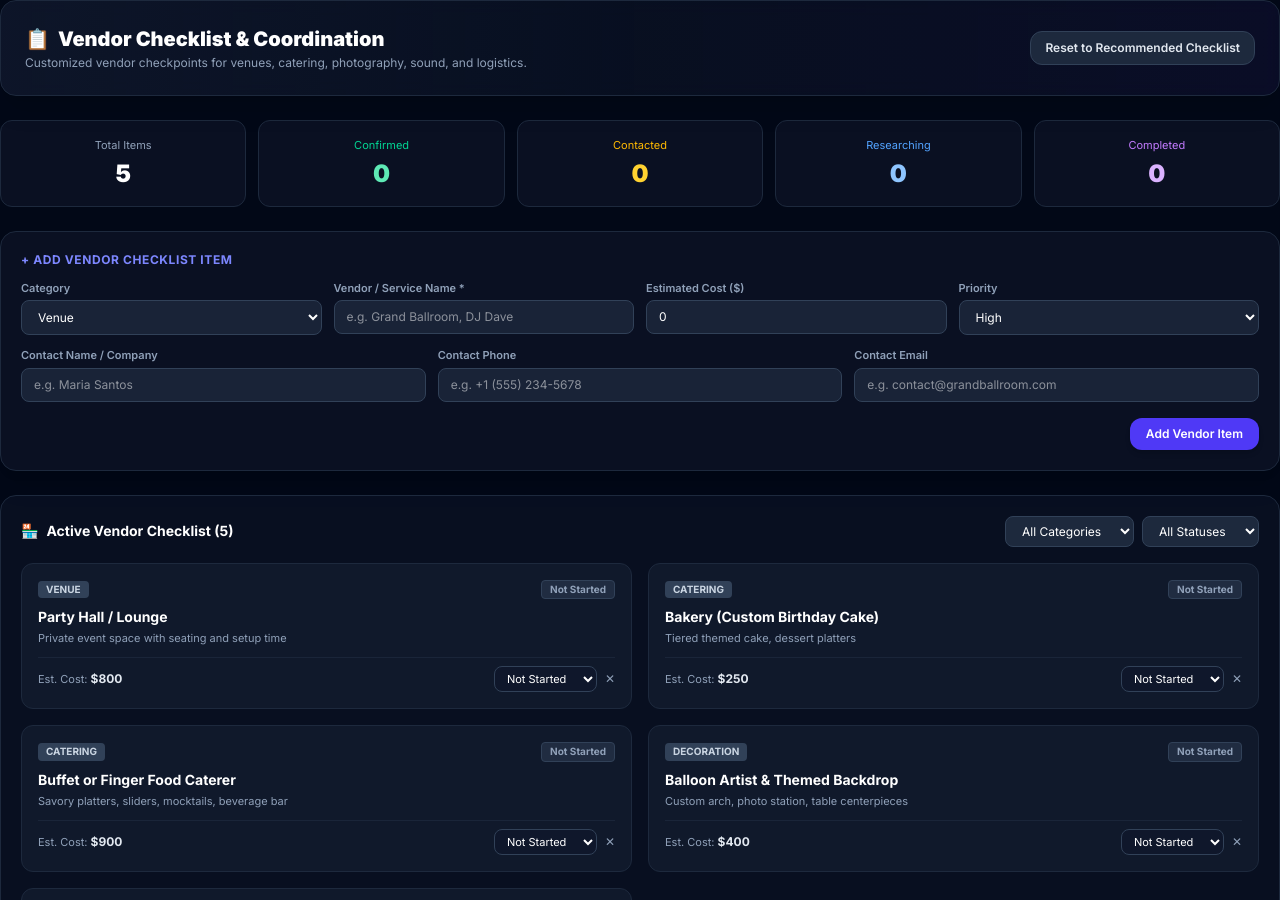
Test: VendorChecklist — DOM Interactions › adds a new vendor checklist item
Type "Retro Synthwave DJ" into the field labelled "Vendor / Service Name *" at (484, 317), box [334,300,634,334]
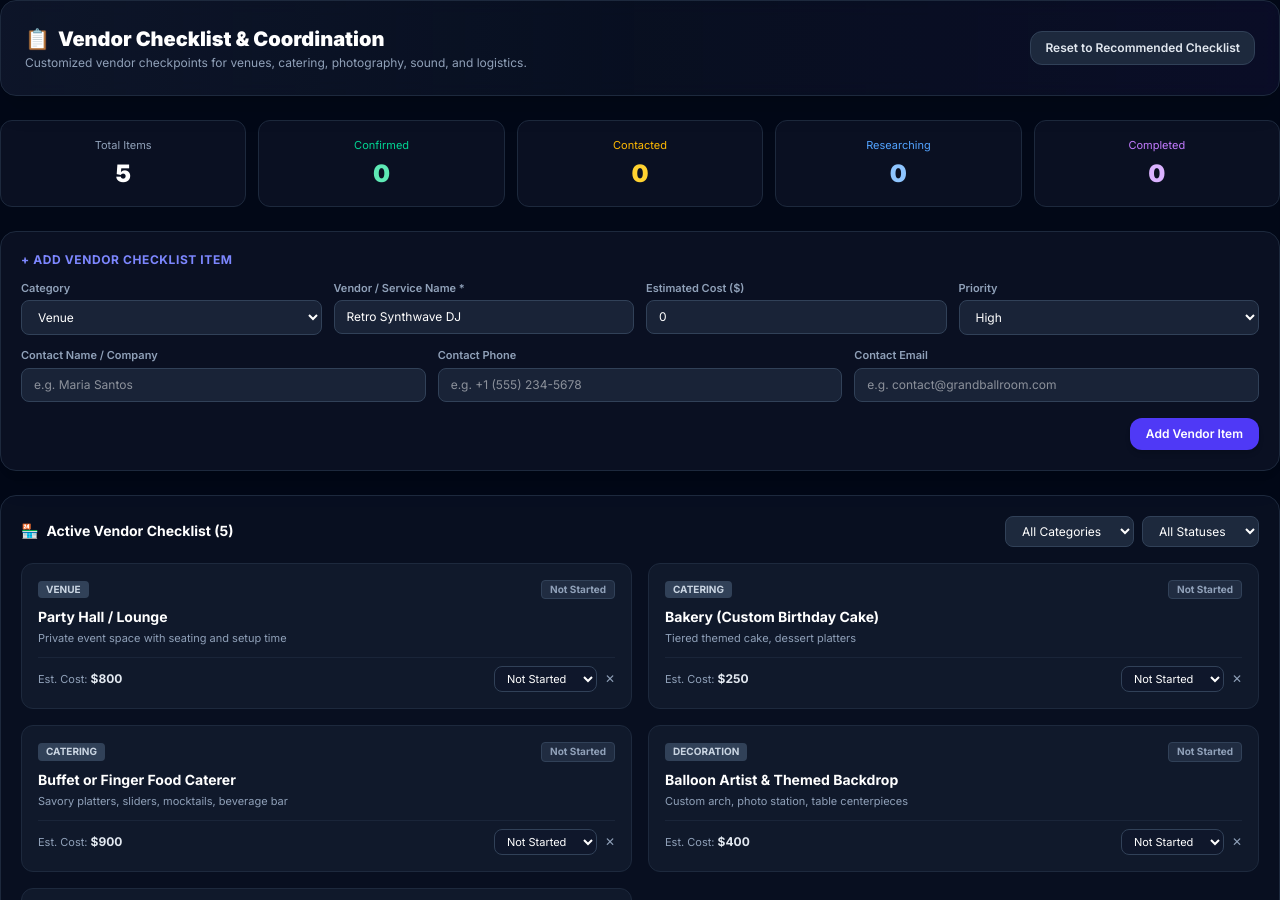
Replace the text in the number field labelled "Estimated Cost ($)" with "600" at (796, 317), box [646,300,946,334]
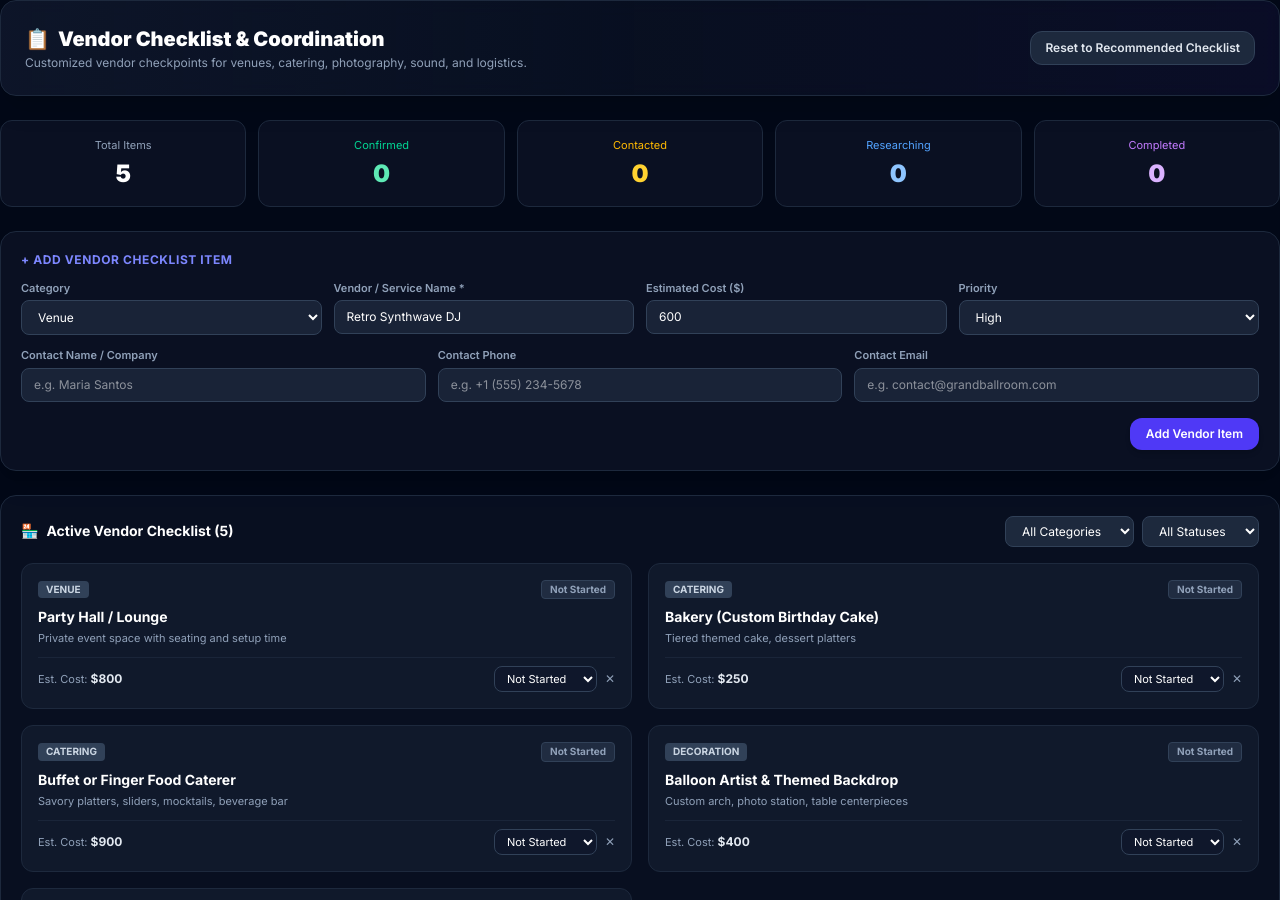
Click the button "Add Vendor Item" at (1194, 434), box [1130,418,1259,450]
(page scrolled)
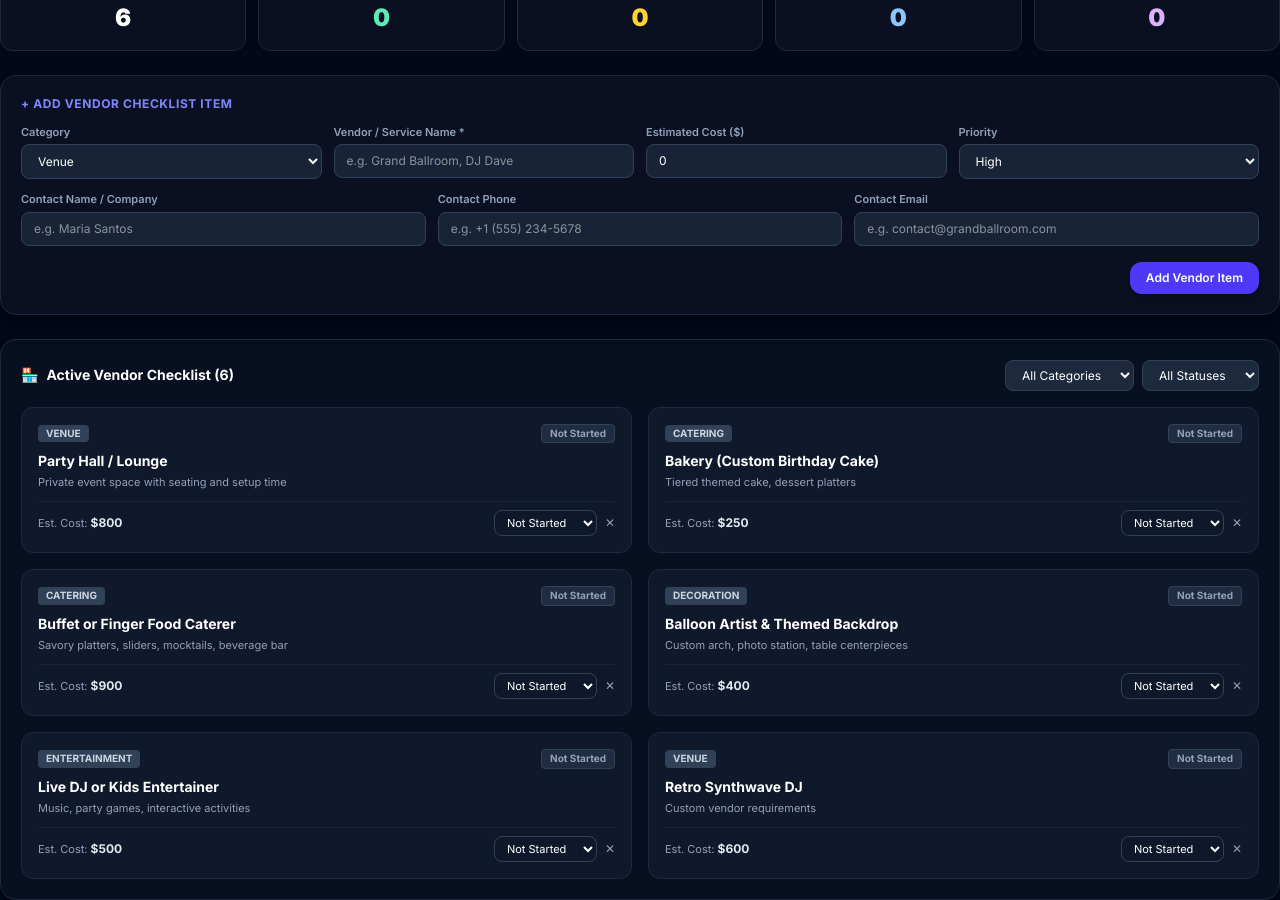
Check: the heading "Retro Synthwave DJ" is shown, box [665,778,803,795]
